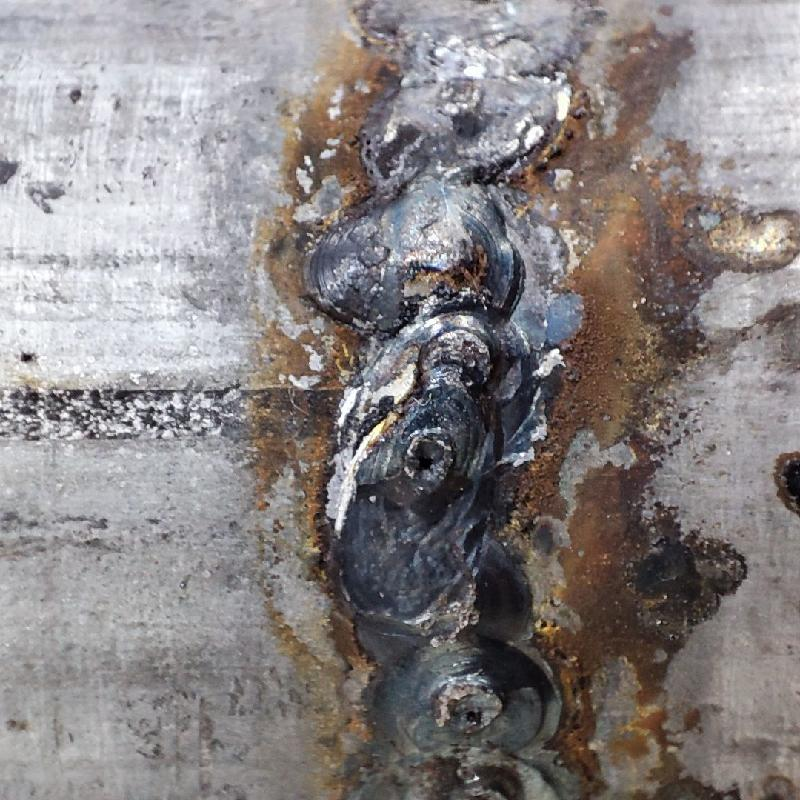Not_fully_soldered: (293, 0, 578, 178)
Surface_pores: (398, 437, 459, 493), (440, 688, 504, 737)
